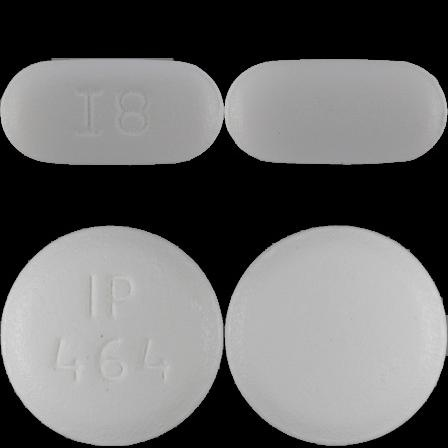68788-9112: (0, 0, 224, 224)
